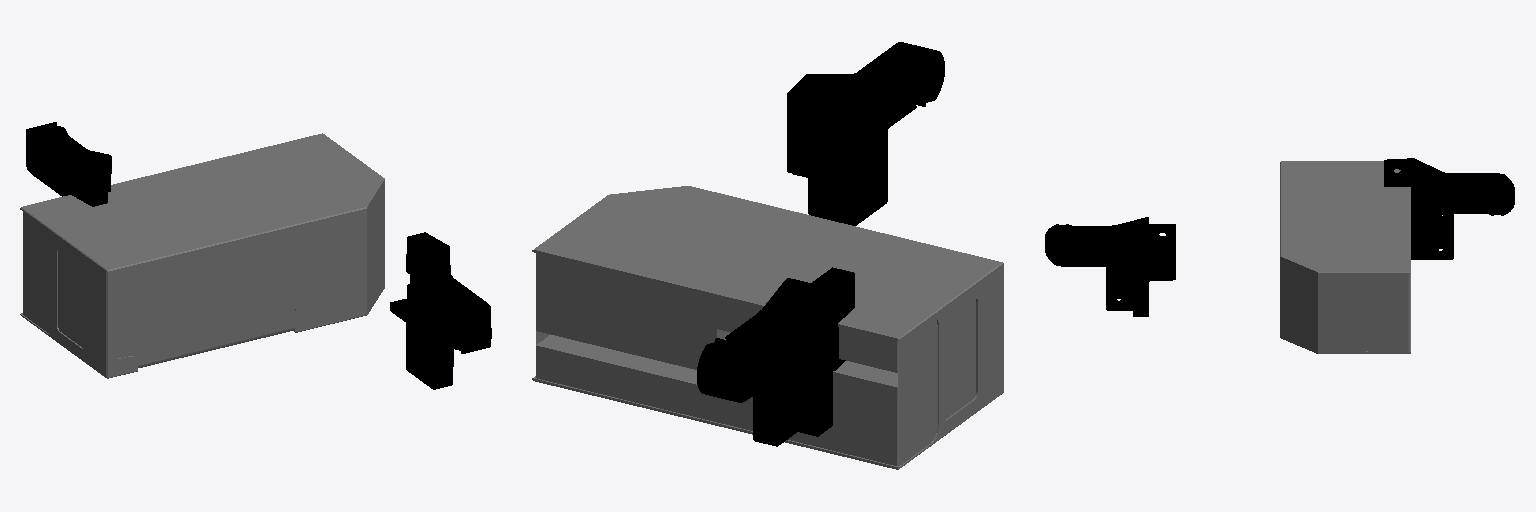
URDF robot description (wsg_50):
<?xml version="1.0"?>
<robot name="wsg_50">

    <!-- BASE LINK -->
    <link name="base_link">
        <inertial>
            <mass value="1.2" />
            <origin xyz="0 0 0" />
            <!--inertia
            ixx="1.0" ixy="0.0" ixz="0.0"
               iyy="100.0" iyz="0.0" 
               izz="1.0" /-->
            <inertia ixx="1.0" ixy="0.0" ixz="0.0" iyy="1.0" iyz="0.0" izz="1.0" />
        </inertial>

        <visual>
            <origin xyz="0.0 0 0" rpy="0 0 0" />
            <geometry>
                <mesh filename="package://blender_models/wsg_description/meshes/WSG50_110.obj" scale="1 1 1" />
                <!--box
                size="0.146 0.05 0.0735"/-->
            </geometry>
            <material name="grey">
                <color rgba="0.5 0.5 0.5 1" />
            </material>
        </visual>

        <collision>
            <origin xyz="0.0 0 0" rpy="0 0 0" />
            <geometry>
                <!--box
                size="0.146 0.05 0.0735"/-->
                <mesh filename="package://blender_models/wsg_description/meshes/WSG50_110.obj" scale="1 1 1" />
            </geometry>
        </collision>
    </link>

    <gazebo reference="base_link">
        <material>Gazebo/Grey</material>
        <turnGravityOff>false</turnGravityOff>
    </gazebo>

    <!-- GRIPPER LEFT -->

    <joint name="base_joint_gripper_left" type="prismatic">
        <limit lower="-0.055" upper="-0.0027" effort="1.0" velocity="1.0" />
        <origin xyz="0 0 0" rpy="0 0 0" />      <!--origin
        xyz="-0.0067 0 0.049" rpy="0 0 0" /-->
        <parent link="base_link" />
        <child link="gripper_left" />
        <dynamics friction="100" damping="100" />
        <axis xyz="1 0 0" />
        <limit effort="100" velocity="100" />
    </joint>

    <transmission name="base_trans_left" type="pr2_mechanism_model/SimpleTransmission">
        <actuator name="base_motor_left" />
        <joint name="base_joint_gripper_left" />
        <mechanicalReduction>1</mechanicalReduction>
        <motorTorqueConstant>1</motorTorqueConstant>
    </transmission>

    <link name="gripper_left">
        <inertial>
            <mass value="0.1" />
            <origin xyz="0 0 0" />
            <inertia ixx="1.0" ixy="0.0" ixz="0.0"
                iyy="1.0" iyz="0.0"
                izz="1.0" />
        </inertial>

        <visual>
            <origin xyz="0.0 0 0" rpy="0 0 0" />
            <geometry>
                <mesh filename="package://blender_models/wsg_description/meshes/GUIDE_WSG50_110.obj"
                    scale="0.001 0.001 0.001" />
                <!--box
                size="0.0175 0.03 0.024"/-->
            </geometry>
            <material name="black">
                <color rgba="0 0 0 0" />
            </material>
        </visual>

        <collision>
            <origin xyz="0 0 0" rpy="0 0 0" />
            <geometry>
                <!--box
                size="0.0175 0.03 0.024"/-->
                <mesh filename="package://blender_models/wsg_description/meshes/GUIDE_WSG50_110.obj"
                    scale="0.001 0.001 0.001" />
            </geometry>
        </collision>
    </link>

    <gazebo reference="gripper_left">
        <material>Gazebo/Blue</material>
        <turnGravityOff>false</turnGravityOff>
    </gazebo>


    <!-- LEFT FINGER -->

    <joint name="guide_joint_finger_left" type="fixed">
        <origin xyz="0 0 0.023" rpy="0 0 0" />
        <parent link="gripper_left" />
        <child link="finger_left" />
        <dynamics friction="100" damping="100" />
        <axis xyz="1 0 0" />
        <limit effort="100" velocity="100" />
    </joint>

    <link name="finger_left">
        <inertial>
            <mass value="0.1" />
            <origin xyz="0 0 0" />
            <inertia ixx="1.0" ixy="0.0" ixz="0.0"
                iyy="1.0" iyz="0.0"
                izz="1.0" />
        </inertial>

        <visual>
            <origin xyz="0.0 0 0" rpy="0 0 0" />
            <geometry>
                <mesh filename="package://blender_models/wsg_description/meshes/WSG-FMF.obj"
                    scale="0.001 0.001 0.001" />
            </geometry>
            <material name="black">
                <color rgba="0 0 0 0" />
            </material>
        </visual>

        <collision>
            <origin xyz="0 0 0" rpy="0 0 0" />
            <geometry>
                <mesh filename="package://blender_models/wsg_description/meshes/WSG-FMF.obj"
                    scale="0.001 0.001 0.001" />
            </geometry>
        </collision>
    </link>

    <gazebo reference="finger_left">
        <material>Gazebo/Blue</material>
        <turnGravityOff>false</turnGravityOff>
    </gazebo>


    <!-- GRIPPER RIGHT -->

    <joint name="base_joint_gripper_right" type="prismatic">
        <limit lower="0.0027" upper="0.055" effort="1.0" velocity="1.0" />
        <origin xyz="0 0 0" rpy="0 0 3.14159" />
        <parent link="base_link" />
        <child link="gripper_right" />
        <axis xyz="-1 0 0" />
        <dynamics friction="100" damping="100" />
        <limit effort="100" velocity="100" />
    </joint>

    <transmission name="base_trans_right" type="pr2_mechanism_model/SimpleTransmission">
        <actuator name="base_motor_right" />
        <joint name="base_joint_gripper_right" />
        <mechanicalReduction>1</mechanicalReduction>
        <motorTorqueConstant>1</motorTorqueConstant>
    </transmission>

    <link name="gripper_right">
        <inertial>
            <mass value="0.1" />
            <origin xyz="0 0 0" />
            <inertia ixx="1.0" ixy="0.0" ixz="0.0"
                iyy="1.0" iyz="0.0"
                izz="1.0" />
        </inertial>

        <visual>
            <origin xyz="0.0 0 0" rpy="0 0 0" />
            <geometry>
                <mesh filename="package://blender_models/wsg_description/meshes/GUIDE_WSG50_110.obj"
                    scale="0.001 0.001 0.001" />
                <!--box
                size="0.0175 0.03 0.024"/-->
            </geometry>
            <material name="black">
                <color rgba="0 0 0 0" />
            </material>
        </visual>

        <collision>
            <origin xyz="0 0 0" rpy="0 0 0" />
            <geometry>
                <!--box
                size="0.0175 0.03 0.024"/-->
                <mesh filename="package://blender_models/wsg_description/meshes/GUIDE_WSG50_110.obj"
                    scale="0.001 0.001 0.001" />
            </geometry>
        </collision>
    </link>

    <gazebo reference="gripper_right">
        <material>Gazebo/White</material>
        <turnGravityOff>false</turnGravityOff>
    </gazebo>

    <!-- RIGHT FINGER -->

    <joint name="guide_joint_finger_right" type="fixed">
        <origin xyz="0 0 0.023" rpy="0 0 0" />
        <parent link="gripper_right" />
        <child link="finger_right" />
        <dynamics friction="100" damping="100" />
        <axis xyz="1 0 0" />
        <limit effort="100" velocity="100" />
    </joint>

    <link name="finger_right">
        <inertial>
            <mass value="0.1" />
            <origin xyz="0 0 0" />
            <inertia ixx="1.0" ixy="0.0" ixz="0.0"
                iyy="1.0" iyz="0.0"
                izz="1.0" />
        </inertial>

        <visual>
            <origin xyz="0.0 0 0" rpy="0 0 0" />
            <geometry>
                <mesh filename="package://blender_models/wsg_description/meshes/WSG-FMF.obj"
                    scale="0.001 0.001 0.001" />
            </geometry>
            <material name="black">
                <color rgba="0 0 0 0" />
            </material>
        </visual>

        <collision>
            <origin xyz="0 0 0" rpy="0 0 0" />
            <geometry>
                <mesh filename="package://blender_models/wsg_description/meshes/WSG-FMF.obj"
                    scale="0.001 0.001 0.001" />
            </geometry>
        </collision>
    </link>

    <gazebo reference="finger_right">
        <material>Gazebo/White</material>
        <turnGravityOff>false</turnGravityOff>
    </gazebo>


</robot>

--- Render facts (derived) ---
3 views of the same robot in one strip: view 1: azimuth 30°, elevation 25°; view 2: azimuth 150°, elevation 25°; view 3: azimuth 270°, elevation 25° (orthographic).
Model wsg_50 with 5 links and 4 joints (2 prismatic, 2 fixed), rooted at base_link, posed all joints at 0 but 2 set to mid-range because 0 is outside their limits (base_joint_gripper_left = -0.0289, base_joint_gripper_right = 0.0289).
Links seen in each view (by area): view 1: base_link, finger_right, finger_left, gripper_right; view 2: base_link, finger_right, finger_left, gripper_right, gripper_left; view 3: base_link, finger_right, finger_left, gripper_left, gripper_right.
Link boxes in pixels (box(x1,y1,x2,y2)): base_link: box(20, 133, 384, 378); finger_right: box(406, 232, 491, 353); finger_left: box(26, 122, 111, 206); gripper_right: box(390, 298, 453, 389); base_link: box(532, 186, 1003, 469); finger_right: box(787, 42, 944, 177); finger_left: box(697, 267, 854, 402); gripper_right: box(793, 125, 887, 225); gripper_left: box(753, 357, 832, 446); base_link: box(1280, 161, 1410, 353); finger_right: box(1045, 217, 1175, 281); finger_left: box(1384, 158, 1514, 221); gripper_left: box(1411, 211, 1453, 259); gripper_right: box(1106, 267, 1172, 316).
Size in the robot's own frame: 0.146 by 0.261 by 0.063 metres.
5 mesh visuals loaded from 3 distinct referenced files (3 OBJ).
